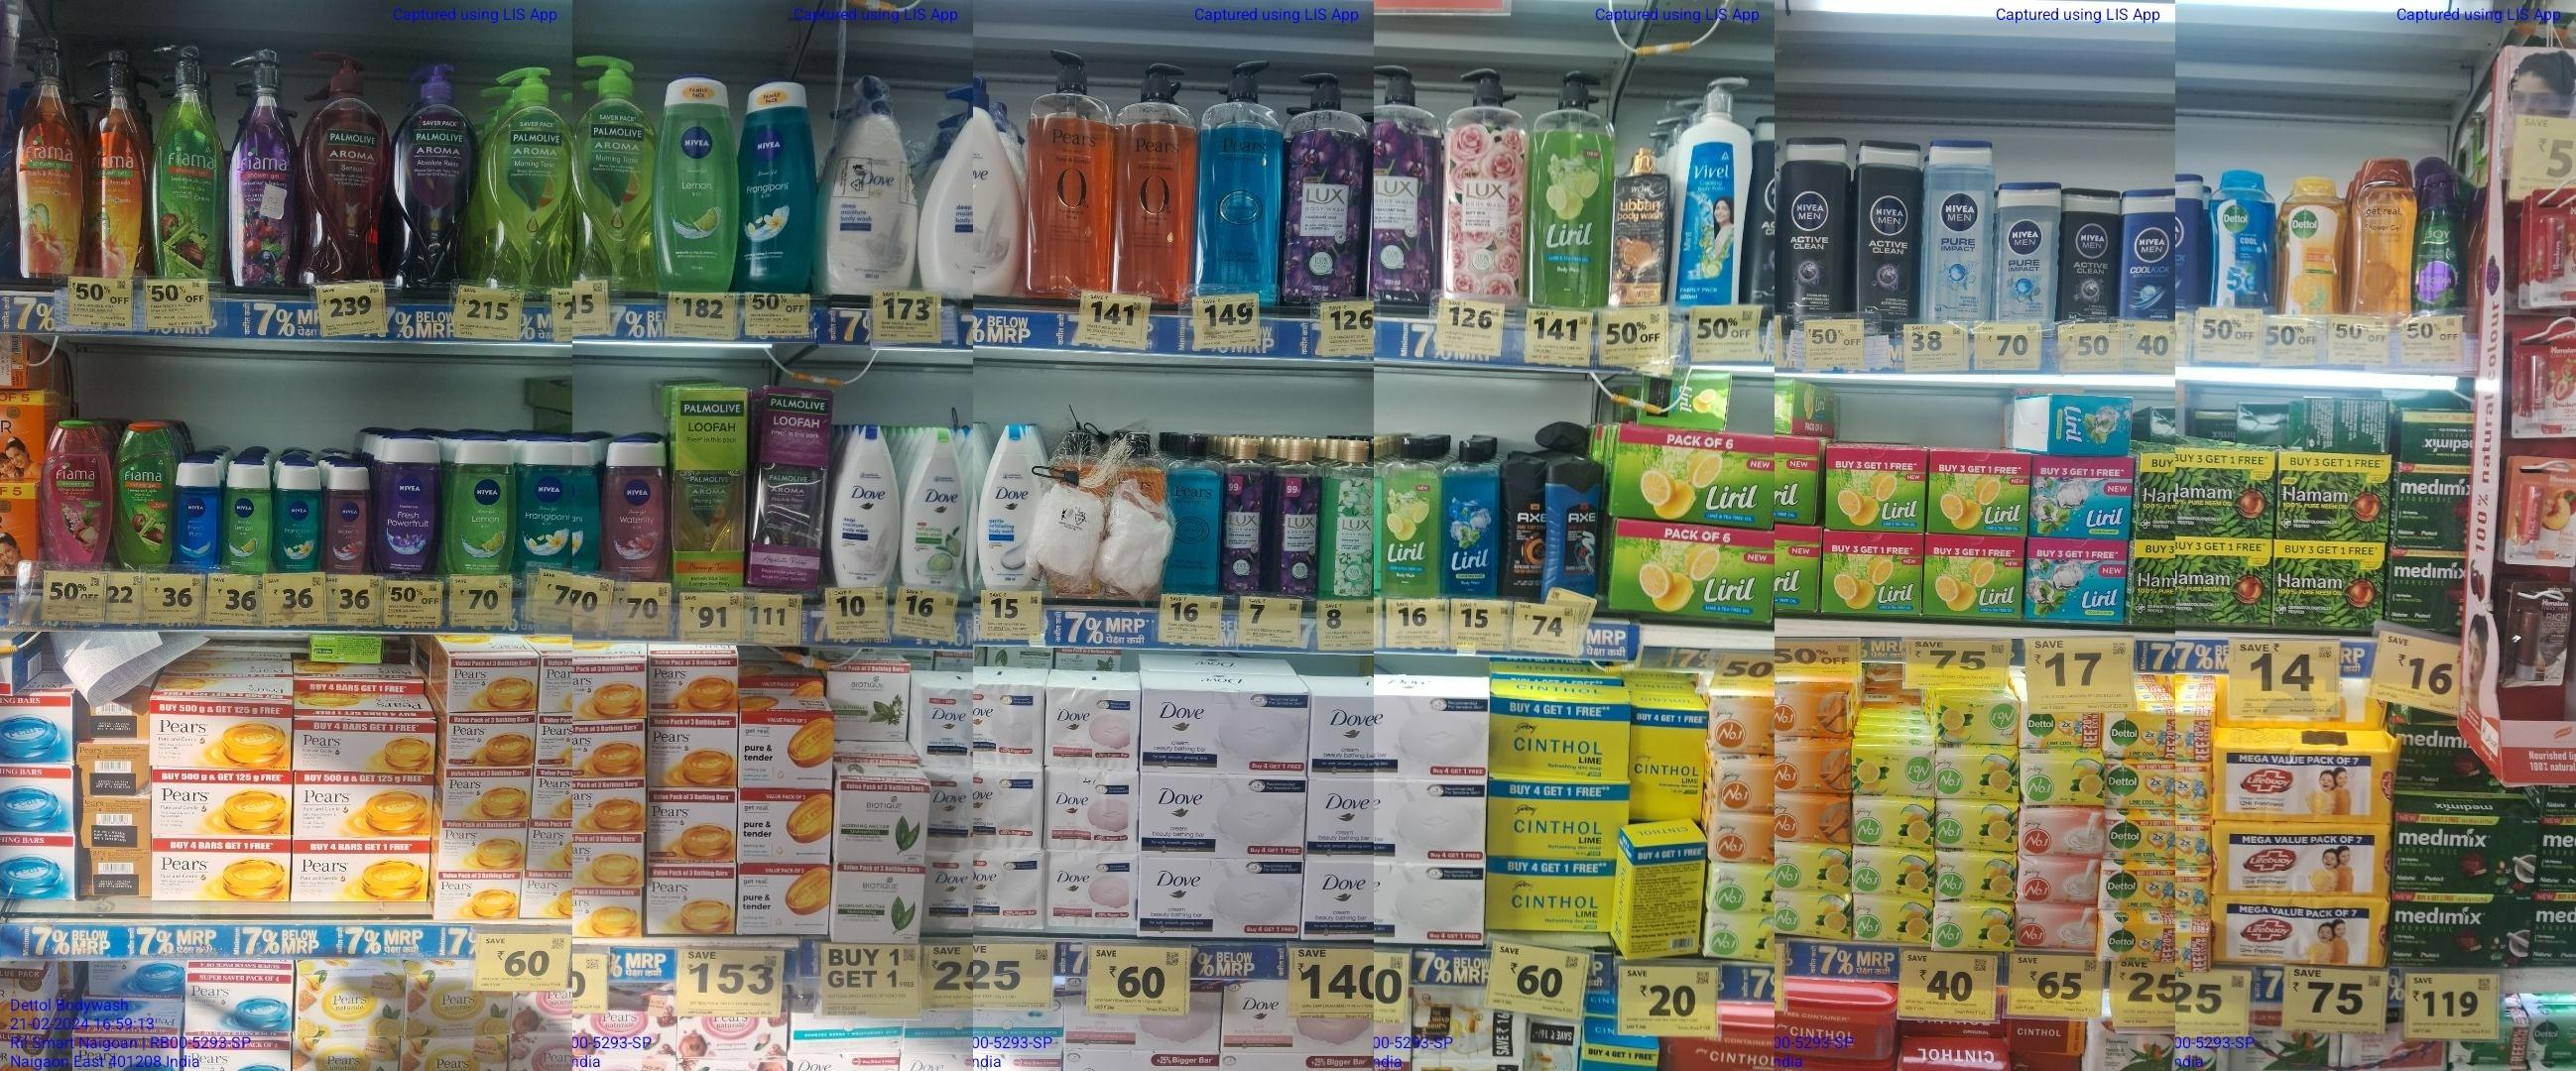Dettol_Bodywash_Cool: (2205, 166, 2275, 306)
Dettol_Bodywash_Refresh: (2277, 174, 2348, 314)
Dove_Deep_Moisture_Body_Wash_250ML: (826, 424, 902, 588)
Dove_Gentle_Exfoliating_Body_Wash_250ML: (979, 422, 1040, 591)
Dove_Refreshing_Body_Wash_250ML: (900, 425, 968, 590)
Fiama_Shower_Gel_Lemongrass_and_Jojoba_250ML: (113, 419, 174, 568)
Fiama_Shower_Gel_Patchouli_and_Macadamia_250ML: (39, 419, 113, 565)
Get_Real_Shower_Gel_Moisturising_Glycerin_300ML: (2348, 156, 2417, 317)
Liril_Cooling_Mint_Body_Wash_250ML: (1442, 437, 1502, 598)
Liril_Lime_and_Tea_Tree_Oil_Body_Wash_250ML: (1380, 435, 1441, 598)
Lux_Black_Orchid_Scent_and_Juniper_Oil_Body_Wash_245ML: (1268, 439, 1321, 598), (1222, 437, 1268, 593)
Lux_Body_Wash_Skin_Detox_Freesia_Scent_and_Alove_Vera_245ML: (1321, 440, 1375, 600)
Nivea_Shower_Gel_Frangipani_and_Oil_250ML: (739, 76, 815, 292), (513, 435, 572, 573), (271, 462, 322, 572)
Nivea_Shower_Gel_Fresh_Powerfruit_250ML: (376, 435, 442, 575)
Nivea_Shower_Gel_Lemon_and_Oil_250ML: (652, 71, 741, 296), (447, 434, 516, 573), (222, 458, 271, 572)
Nivea_Shower_Gel_Waterlily_and_Oil_250ML: (600, 435, 669, 581), (322, 462, 371, 573)
Pears_Pure_Glycerin_and_Mint_Extracts_Body_Wash_250ML: (1163, 434, 1222, 596)
